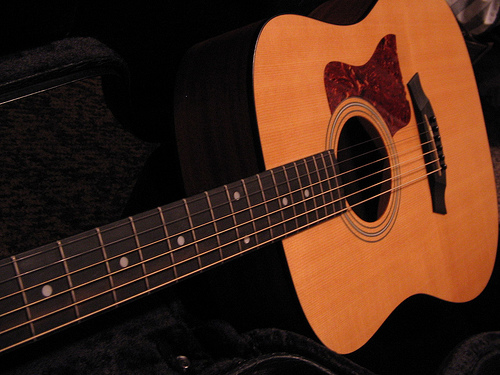guitar: (1, 1, 500, 361)
